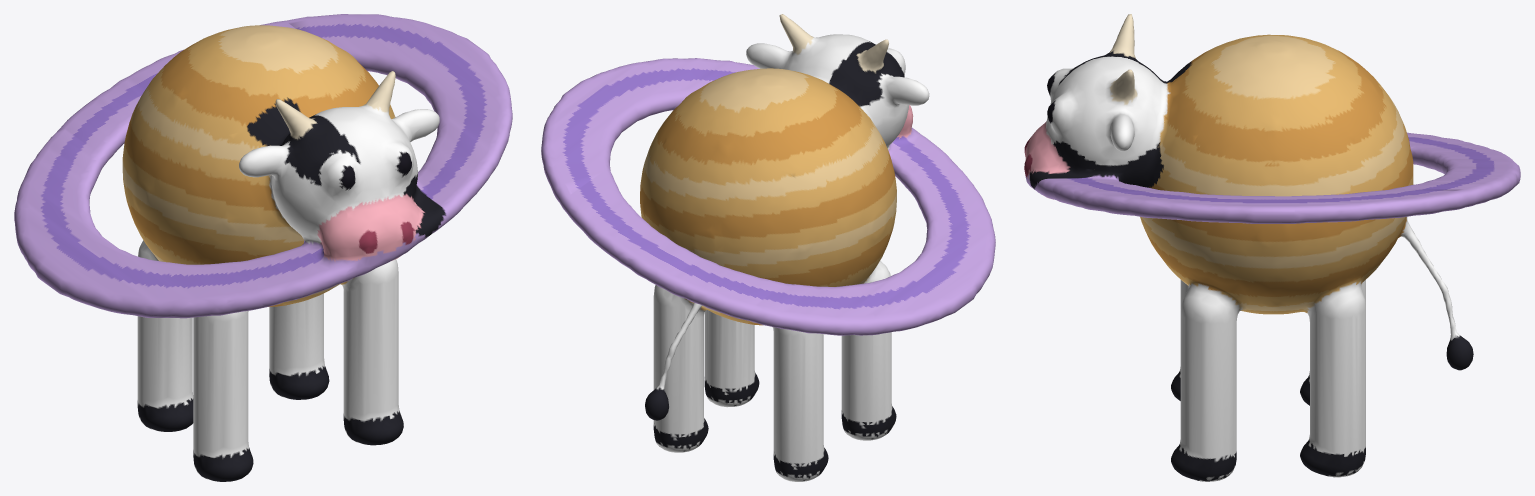
File: SM_La_Vacca_Saturno_Saturnita.fbx
3 views of the same model, side by side, from view 1: azimuth 30°, elevation 25°; view 2: azimuth 150°, elevation 25°; view 3: azimuth 270°, elevation 25° (orthographic). The views are drawn at different scales.
Visible parts, largest first — view 1: La_Vacca_Saturno_Saturnita; view 2: La_Vacca_Saturno_Saturnita; view 3: La_Vacca_Saturno_Saturnita.
Part boxes in pixels (x1,y1,x2,y2): La_Vacca_Saturno_Saturnita: (14,14,512,481); La_Vacca_Saturno_Saturnita: (541,14,995,481); La_Vacca_Saturno_Saturnita: (1024,14,1520,481).
Size of the model in its own units: 1.38 by 1.22 by 1.38.
1 material, 1 textured.
